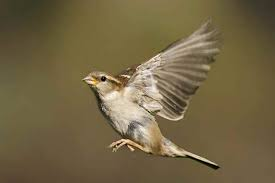hsparrow: (82, 18, 228, 173)
